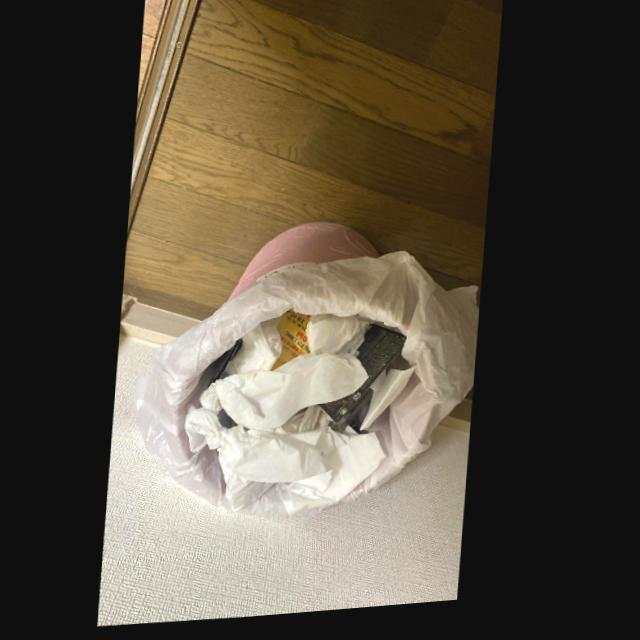paper: (189, 413, 392, 519), (204, 357, 373, 434), (324, 330, 411, 429), (365, 372, 421, 437), (230, 321, 286, 379), (310, 319, 376, 362)
